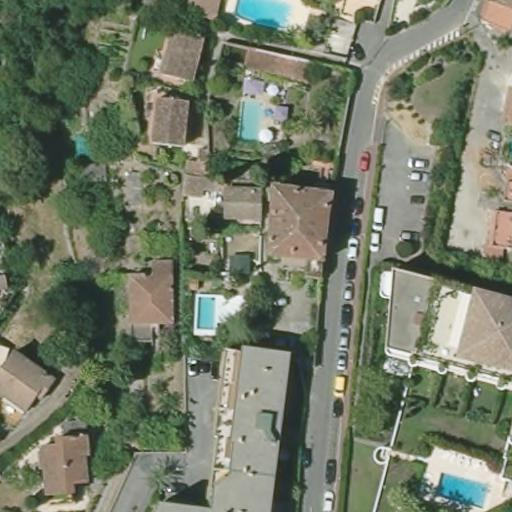pool: (228, 0, 300, 33), (428, 470, 490, 504), (233, 96, 276, 145), (66, 129, 100, 173), (190, 288, 221, 332)
